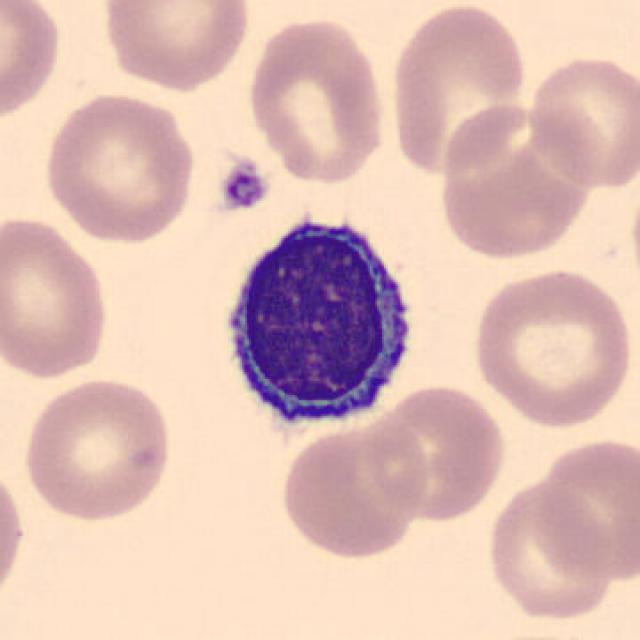Lymphocyte: (208, 205, 427, 446)
Platelets: (215, 155, 272, 217)
RBC: (468, 263, 636, 430), (434, 100, 599, 262), (384, 0, 530, 178), (244, 12, 391, 185), (39, 88, 199, 245), (20, 374, 176, 525), (277, 411, 432, 562), (361, 381, 510, 525), (482, 474, 620, 622), (0, 212, 114, 382), (530, 432, 640, 585), (523, 50, 638, 190), (98, 0, 256, 93), (0, 0, 66, 129), (0, 458, 30, 614)
